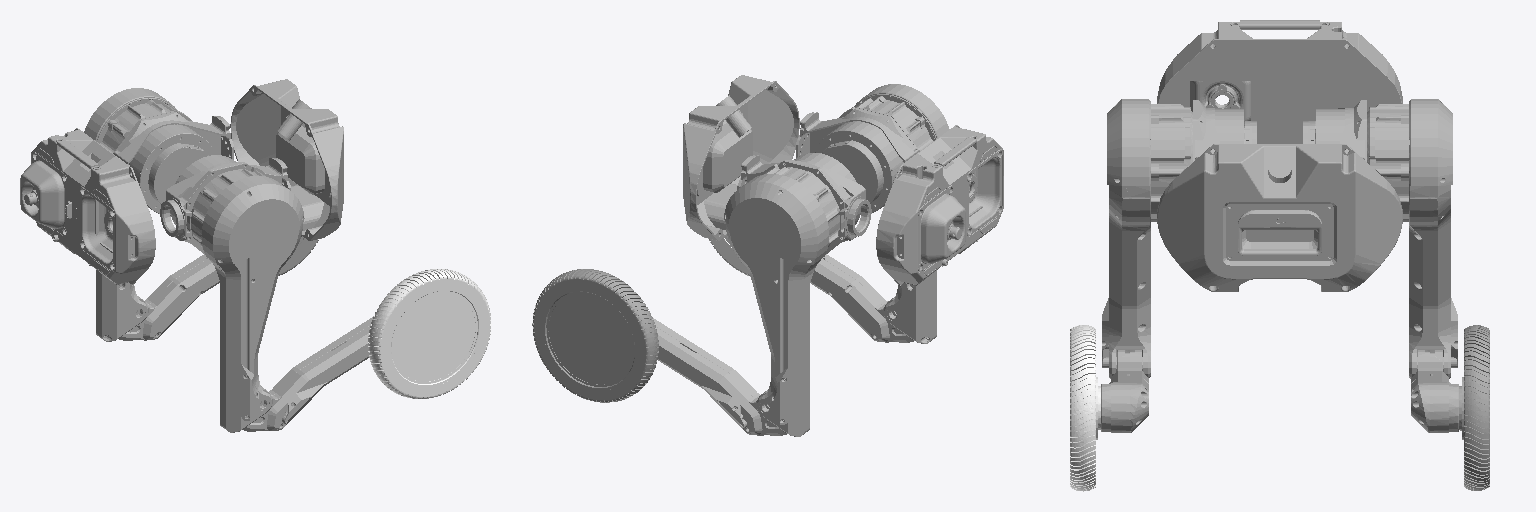
The robot description file, URDF, robot "d1h_description":
<?xml version="1.0" ?>
<!-- =================================================================================== -->
<!-- |    This document was autogenerated by xacro from src/robot_descriptions/d1h_description/xacro/robot.xacro | -->
<!-- |    EDITING THIS FILE BY HAND IS NOT RECOMMENDED                                 | -->
<!-- =================================================================================== -->
<robot name="d1h_description">
  <link name="base_link">
    <visual>
      <origin rpy="0 0 0" xyz="0 0 0"/>
      <geometry>
        <box size="0.001 0.001 0.001"/>
      </geometry>
    </visual>
    <inertial>
      <mass value="0.001"/>
      <origin rpy="0 0 0" xyz="0 0 0"/>
      <inertia ixx="0.0001" ixy="0" ixz="0" iyy="0.0001" iyz="0" izz="0.0001"/>
    </inertial>
  </link>
  <link name="imu_link">
    <inertial>
      <mass value="0.001"/>
      <origin rpy="0 0 0" xyz="0 0 0"/>
      <inertia ixx="0.0001" ixy="0" ixz="0" iyy="0.0001" iyz="0" izz="0.0001"/>
    </inertial>
    <visual>
      <origin rpy="0 0 0" xyz="0 0 0"/>
      <geometry>
        <box size="0.001 0.001 0.001"/>
      </geometry>
      <material name="red"/>
    </visual>
    <collision>
      <origin rpy="0 0 0" xyz="0 0 0"/>
      <geometry>
        <box size=".001 .001 .001"/>
      </geometry>
    </collision>
  </link>
  <joint name="imu_joint" type="fixed">
    <parent link="base_link"/>
    <child link="imu_link"/>
    <origin rpy="0 0 0" xyz="0 0 0"/>
  </joint>
  <!-- Base link -->
  <link name="F_base_link">
    <inertial>
      <origin rpy="0 0 0" xyz="0.04005271 0.00019692 -0.02084955"/>
      <mass value="8.44614222"/>
      <inertia ixx="0.07256618" ixy="0.00023603" ixz="-0.00688763" iyy="0.11587953" iyz="3.472e-05" izz="0.11697399"/>
    </inertial>
    <visual>
      <origin rpy="0 0 0" xyz="0 0 0"/>
      <geometry>
        <mesh filename="package://d1h_description/meshes/base_link.STL"/>
      </geometry>
      <material name="">
        <color rgba="0.75294 0.75294 0.75294 1"/>
      </material>
    </visual>
    <collision>
      <origin rpy="0 0 0" xyz="0 0 0"/>
      <geometry>
        <box size="0.275 0.15 0.175"/>
      </geometry>
    </collision>
    <collision>
      <origin rpy="0 0 0" xyz="0 0 -0.12"/>
      <geometry>
        <box size="0.31 0.12 0.06"/>
      </geometry>
    </collision>
  </link>
  <joint name="F_base_joint" type="fixed">
    <origin rpy="0 0 0" xyz="0 0 0"/>
    <parent link="base_link"/>
    <child link="F_base_link"/>
  </joint>
  <!-- Funtion link -->
  <link name="F_funtion_link">
    <inertial>
      <origin rpy="0 0 0" xyz="0.01321944 0.0 0.00563897"/>
      <mass value="0.67772"/>
      <inertia ixx="0.0046602" ixy="-4.1631E-09" ixz="4.51E-05" iyy="0.0017478" iyz="8e-08" izz="0.0031524"/>
    </inertial>
    <visual>
      <origin rpy="0 0 0" xyz="0 0 0"/>
      <geometry>
        <mesh filename="package://d1h_description/meshes/funtion_Link.STL"/>
      </geometry>
      <material name="">
        <color rgba="0.75294 0.75294 0.75294 1"/>
      </material>
    </visual>
    <collision>
      <origin rpy="0 0 0" xyz="0.008 0 0"/>
      <geometry>
        <box size="0.0495 0.15 0.175"/>
      </geometry>
    </collision>
  </link>
  <joint name="F_funtion_joint" type="fixed">
    <origin rpy="0 0 0" xyz="0.1545 0 0"/>
    <parent link="F_base_link"/>
    <child link="F_funtion_link"/>
    <axis xyz="0 0 0"/>
  </joint>
  <!-- Docking link -->
  <link name="F_docking_link">
    <inertial>
      <origin rpy="0 0 0" xyz="0.01527894 0.00855247 0.00284739"/>
      <mass value="2.20153411"/>
      <inertia ixx="0.01876158" ixy="0.00036494" ixz="6.869e-05" iyy="0.00631988" iyz="0.0001511" izz="0.01358894"/>
    </inertial>
    <visual>
      <origin rpy="0 0 0" xyz="0 0 0"/>
      <geometry>
        <mesh filename="package://d1h_description/meshes/docking_Link.STL"/>
      </geometry>
      <material name="">
        <color rgba="0.75294 0.75294 0.75294 1"/>
      </material>
    </visual>
    <collision>
      <origin rpy="0 0 0" xyz="0.0065 0 0"/>
      <geometry>
        <box size="0.0851 0.15 0.175"/>
      </geometry>
    </collision>
  </link>
  <joint name="F_docking_joint" type="fixed">
    <origin rpy="0 0 0" xyz="-0.187 0 0"/>
    <parent link="F_base_link"/>
    <child link="F_docking_link"/>
    <axis xyz="0 0 0"/>
  </joint>
  <!-- Left hip link -->
  <link name="FL_hip">
    <inertial>
      <origin rpy="0 0 0" xyz="-0.01814352 -7.96e-06 -0.09365134"/>
      <mass value="1.69464273"/>
      <inertia ixx="0.00379266" ixy="-1.1e-07" ixz="-2.452e-05" iyy="0.00276068" iyz="3.09e-06" izz="0.00214485"/>
    </inertial>
    <visual>
      <origin rpy="0 0 0" xyz="0 0 0"/>
      <geometry>
        <mesh filename="package://d1h_description/meshes/L_hip.STL"/>
      </geometry>
      <material name="">
        <color rgba="0.75294 0.75294 0.75294 1"/>
      </material>
    </visual>
  </link>
  <joint name="FL_hip_joint" type="revolute">
    <origin rpy="1.5708 0 1.5708" xyz="0.0945 0.0775 0"/>
    <parent link="F_base_link"/>
    <child link="FL_hip"/>
    <axis xyz="0 0 1"/>
    <dynamics damping="0" friction="0"/>
    <limit effort="80" lower="-0.7853981633974483" upper="0.7853981633974483" velocity="20"/>
  </joint>
  <!-- Left thigh link -->
  <link name="FL_thigh">
    <inertial>
      <origin rpy="0 0 0" xyz="0.02895091 0.00356333 -0.02811556"/>
      <mass value="2.55232244"/>
      <inertia ixx="0.00426053" ixy="-0.00133627" ixz="-0.00212533" iyy="0.01734276" iyz="-0.00029985" izz="0.01796394"/>
    </inertial>
    <visual>
      <origin rpy="0 0 0" xyz="0 0 0"/>
      <geometry>
        <mesh filename="package://d1h_description/meshes/L_thigh.STL"/>
      </geometry>
      <material name="">
        <color rgba="0.75294 0.75294 0.75294 1"/>
      </material>
    </visual>
    <collision>
      <origin rpy="0 0 0.2617993877991494" xyz="0.06 0.02 0"/>
      <geometry>
        <box size="0.26 0.09 0.05"/>
      </geometry>
    </collision>
  </link>
  <joint name="FL_thigh_joint" type="revolute">
    <origin rpy="-1.5708 0 -1.5704" xyz="0.0905 0 -0.0945"/>
    <parent link="FL_hip"/>
    <child link="FL_thigh"/>
    <axis xyz="0 0 1"/>
    <dynamics damping="0" friction="0"/>
    <limit effort="80" lower="-1.8325957145940461" upper="3.4033920413889422" velocity="20"/>
  </joint>
  <!-- Left knee link -->
  <link name="FL_calf">
    <inertial>
      <origin rpy="0 0 0" xyz="0.12506267 0.00606587 0.00312587"/>
      <mass value="0.46345045"/>
      <inertia ixx="0.00023821" ixy="0.00034272" ixz="-0.00014416" iyy="0.00488539" iyz="3.83e-06" izz="0.00493944"/>
    </inertial>
    <visual>
      <origin rpy="0 0 0" xyz="0 0 0"/>
      <geometry>
        <mesh filename="package://d1h_description/meshes/L_calf.STL"/>
      </geometry>
      <material name="">
        <color rgba="0.75294 0.75294 0.75294 1"/>
      </material>
    </visual>
    <collision>
      <origin rpy="0 0 -0.08" xyz="0.15 0.01 0"/>
      <geometry>
        <box size="0.24 0.04 0.05"/>
      </geometry>
    </collision>
  </link>
  <joint name="FL_calf_joint" type="revolute">
    <origin rpy="-0.0 0.0 0.0" xyz="0.25 0 0"/>
    <parent link="FL_thigh"/>
    <child link="FL_calf"/>
    <axis xyz="0 0 1"/>
    <dynamics damping="0" friction="0"/>
    <limit effort="80" lower="-2.775" upper="-0.855" velocity="20"/>
  </joint>
  <!-- Left wheel link -->
  <link name="FL_foot">
    <inertial>
      <origin rpy="0 0 0" xyz="-2.82e-06 0.0 -0.00091845"/>
      <mass value="1.6631"/>
      <inertia ixx="0.00397025" ixy="2.224e-05" ixz="2.1e-07" iyy="0.00395149" iyz="2e-07" izz="0.00760863"/>
    </inertial>
    <visual>
      <origin rpy="0 0 0" xyz="0 0 0"/>
      <geometry>
        <mesh filename="package://d1h_description/meshes/L_foot.STL"/>
      </geometry>
      <material name="">
        <color rgba="0.698039215686274 0.698039215686274 0.698039215686274 1"/>
      </material>
    </visual>
    <collision>
      <origin rpy="0 0 0" xyz="0 0 0.0"/>
      <geometry>
        <cylinder length="0.04" radius="0.087"/>
      </geometry>
    </collision>
  </link>
  <joint name="FL_foot_joint" type="revolute">
    <origin rpy="0 0 0" xyz="0.25 0 0.052166"/>
    <parent link="FL_calf"/>
    <child link="FL_foot"/>
    <axis xyz="0 0 1"/>
    <dynamics damping="0" friction="0"/>
    <limit effort="12" lower="-1000000.0" upper="1000000.0" velocity="30.0"/>
  </joint>
  <!-- Right hip link -->
  <link name="FR_hip">
    <inertial>
      <origin rpy="0 0 0" xyz="0.01814352 -8e-06 -0.09365134"/>
      <mass value="1.69464279"/>
      <inertia ixx="0.00379266" ixy="1.1e-07" ixz="2.452e-05" iyy="0.00276068" iyz="3.09e-06" izz="0.00214485"/>
    </inertial>
    <visual>
      <origin rpy="0 0 0" xyz="0 0 0"/>
      <geometry>
        <mesh filename="package://d1h_description/meshes/R_hip.STL"/>
      </geometry>
      <material name="">
        <color rgba="0.75294 0.75294 0.75294 1"/>
      </material>
    </visual>
  </link>
  <joint name="FR_hip_joint" type="revolute">
    <origin rpy="1.5708 0 1.5708" xyz="0.0945 -0.0775 0"/>
    <parent link="F_base_link"/>
    <child link="FR_hip"/>
    <axis xyz="0 0 1"/>
    <dynamics damping="0" friction="0"/>
    <limit effort="80" lower="-0.7853981633974483" upper="0.7853981633974483" velocity="20"/>
  </joint>
  <!-- Right thigh link -->
  <link name="FR_thigh">
    <inertial>
      <origin rpy="0 0 0" xyz="0.0291816 0.00370278 0.02811568"/>
      <mass value="2.55232278"/>
      <inertia ixx="0.00427405" ixy="-0.00133225" ixz="0.00213801" iyy="0.01729241" iyz="0.00030751" izz="0.01792714"/>
    </inertial>
    <visual>
      <origin rpy="0 0 0" xyz="0 0 0"/>
      <geometry>
        <mesh filename="package://d1h_description/meshes/R_thigh.STL"/>
      </geometry>
      <material name="">
        <color rgba="0.752941176470588 0.752941176470588 0.752941176470588 1"/>
      </material>
    </visual>
    <collision>
      <origin rpy="0 0 0.2617993877991494" xyz="0.06 0.02 0"/>
      <geometry>
        <box size="0.26 0.09 0.05"/>
      </geometry>
    </collision>
  </link>
  <joint name="FR_thigh_joint" type="revolute">
    <origin rpy="-1.5708 0 -1.5712" xyz="-0.0905 0 -0.0945"/>
    <parent link="FR_hip"/>
    <child link="FR_thigh"/>
    <axis xyz="0 0 1"/>
    <dynamics damping="0" friction="0"/>
    <limit effort="80" lower="-1.8325957145940461" upper="3.4033920413889422" velocity="20"/>
  </joint>
  <!-- Right knee link -->
  <link name="FR_calf">
    <inertial>
      <origin rpy="0 0 0" xyz="0.12506359 0.00606606 -0.0031258"/>
      <mass value="0.46345511"/>
      <inertia ixx="0.00023821" ixy="0.00034271" ixz="0.00014415" iyy="0.00488543" iyz="-3.83e-06" izz="0.00493948"/>
    </inertial>
    <visual>
      <origin rpy="0 0 0" xyz="0 0 0"/>
      <geometry>
        <mesh filename="package://d1h_description/meshes/R_calf.STL"/>
      </geometry>
      <material name="">
        <color rgba="0.752941176470588 0.752941176470588 0.752941176470588 1"/>
      </material>
    </visual>
    <collision>
      <origin rpy="0 0 -0.08" xyz="0.15 0.01 0"/>
      <geometry>
        <box size="0.24 0.04 0.05"/>
      </geometry>
    </collision>
  </link>
  <joint name="FR_calf_joint" type="revolute">
    <origin rpy="0.0 0.0 0.0" xyz="0.25 0 0"/>
    <parent link="FR_thigh"/>
    <child link="FR_calf"/>
    <axis xyz="0 0 1"/>
    <dynamics damping="0" friction="0"/>
    <limit effort="80" lower="-2.775" upper="-0.855" velocity="20"/>
  </joint>
  <!-- Right wheel link -->
  <link name="FR_foot">
    <inertial>
      <origin rpy="0 0 0" xyz="-2.78e-06 0.0 0.00091859"/>
      <mass value="1.6631"/>
      <inertia ixx="0.00397018" ixy="2.222e-05" ixz="-2.1e-07" iyy="0.00395159" iyz="-2e-07" izz="0.00760867"/>
    </inertial>
    <visual>
      <origin rpy="0 0 0" xyz="0 0 0"/>
      <geometry>
        <mesh filename="package://d1h_description/meshes/R_foot.STL"/>
      </geometry>
      <material name="">
        <color rgba="1 1 1 1"/>
      </material>
    </visual>
    <collision>
      <origin rpy="0 0 0" xyz="0 0 -0.0"/>
      <geometry>
        <cylinder length="0.04" radius="0.087"/>
      </geometry>
    </collision>
  </link>
  <joint name="FR_foot_joint" type="revolute">
    <origin rpy="0 0 2.3965" xyz="0.25 0 -0.052166"/>
    <parent link="FR_calf"/>
    <child link="FR_foot"/>
    <axis xyz="0 0 1"/>
    <dynamics damping="0" friction="0"/>
    <limit effort="12" lower="-1000000.0" upper="1000000.0" velocity="30.0"/>
  </joint>
</robot>

--- What the picture shows (computed from the rendered views, not written in the file) ---
Views: 3 orthographic renders of the robot side by side, from view 1: azimuth 30°, elevation 25°; view 2: azimuth 150°, elevation 25°; view 3: azimuth 270°, elevation 25°.
Model d1h_description with 13 links and 12 joints (8 revolute, 4 fixed), rooted at base_link, posed all joints at 0 but 2 set to mid-range because 0 is outside their limits (FL_calf_joint = -1.81, FR_calf_joint = -1.81).
Links seen in each view (by area): view 1: FR_thigh, F_docking_link, FR_foot, F_funtion_link, FL_hip, FL_thigh, FR_calf, FR_hip, FL_calf; view 2: FL_thigh, F_docking_link, FL_foot, F_funtion_link, FR_hip, FR_thigh, FL_calf, FL_hip, FR_calf, FR_foot; view 3: F_funtion_link, F_docking_link, FL_thigh, FR_thigh, FR_foot, FL_foot, FL_calf, FR_calf, FL_hip, FR_hip.
Link boxes in pixels (x1,y1,x2,y2): FR_thigh: [191, 166, 304, 432]; F_docking_link: [20, 128, 155, 284]; FR_foot: [368, 269, 491, 398]; F_funtion_link: [230, 79, 343, 240]; FL_hip: [113, 111, 233, 215]; FL_thigh: [84, 88, 191, 341]; FR_calf: [243, 316, 373, 431]; FR_hip: [160, 155, 290, 254]; FL_calf: [119, 236, 301, 340]; FL_thigh: [724, 164, 839, 436]; F_docking_link: [876, 125, 1003, 285]; FL_foot: [532, 269, 658, 402]; F_funtion_link: [683, 75, 799, 240]; FR_hip: [796, 107, 919, 212]; FR_thigh: [839, 84, 949, 343]; FL_calf: [652, 318, 786, 435]; FL_hip: [737, 153, 871, 254]; FR_calf: [726, 235, 913, 342]; FR_foot: [709, 236, 750, 276]; F_funtion_link: [1157, 144, 1402, 291]; F_docking_link: [1157, 20, 1402, 143]; FL_thigh: [1367, 99, 1457, 378]; FR_thigh: [1102, 99, 1192, 378]; FR_foot: [1070, 325, 1100, 491]; FL_foot: [1459, 325, 1489, 490]; FL_calf: [1411, 350, 1458, 432]; FR_calf: [1101, 350, 1148, 432]; FL_hip: [1303, 100, 1366, 161]; FR_hip: [1193, 100, 1256, 161].
Size in the robot's own frame: 0.5578 by 0.4702 by 0.3897 metres.
10 mesh visuals loaded from 11 distinct referenced files (10 binary STL); not drawn: 1 (reference not matched to a file when rendering).
